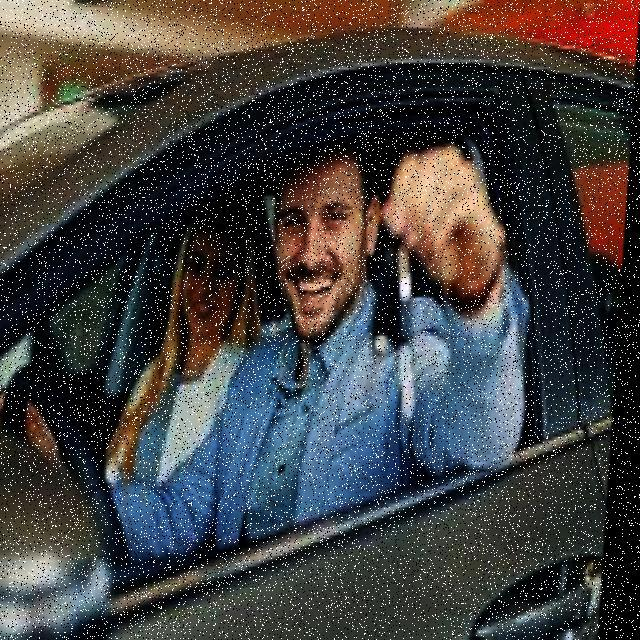noSeatbelt: (193, 323, 424, 578)
